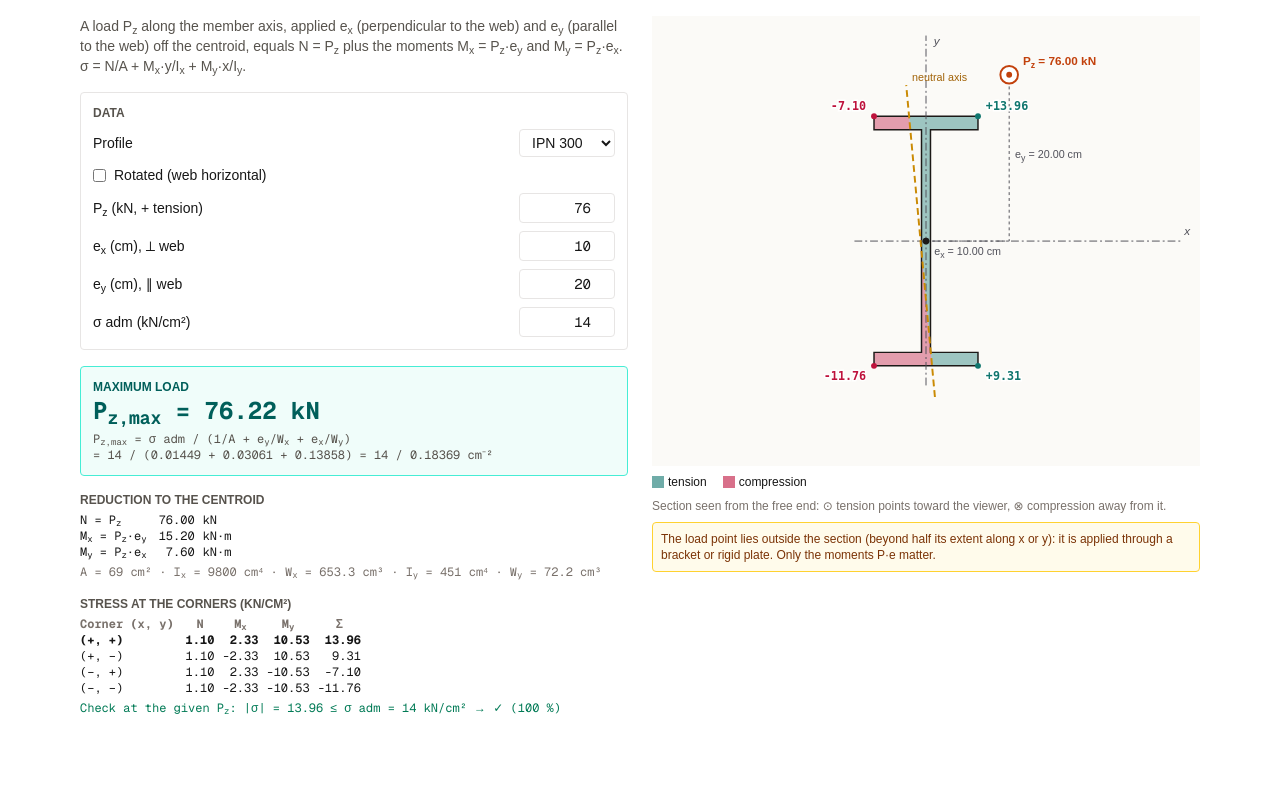
Test case: EccentricSection › concentric load has no neutral axis and P_z,max = σ adm·A
Replace the text in the number field named "e_x" with "0". click: (567,246)
box: [519, 231, 615, 261]
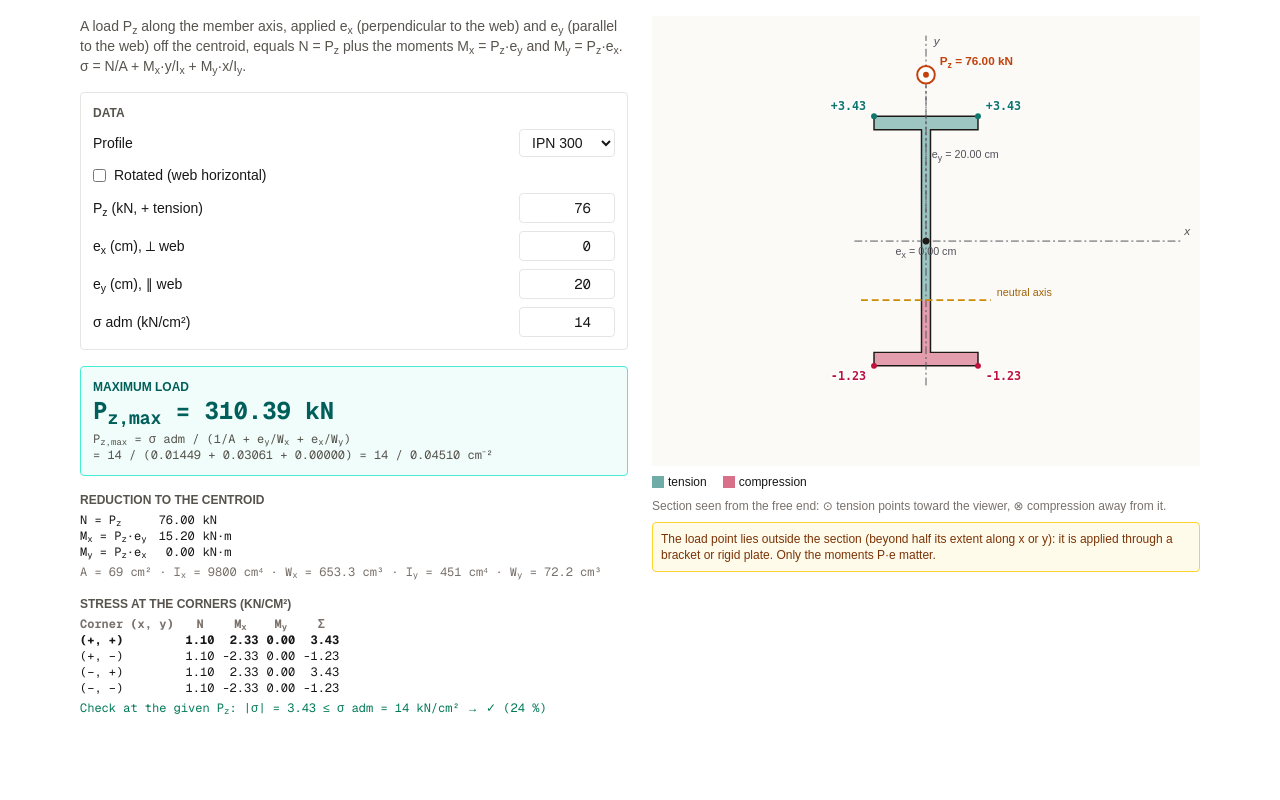
Replace the text in the number field named "e_y" with "0". click: (567,284)
box: [519, 269, 615, 299]
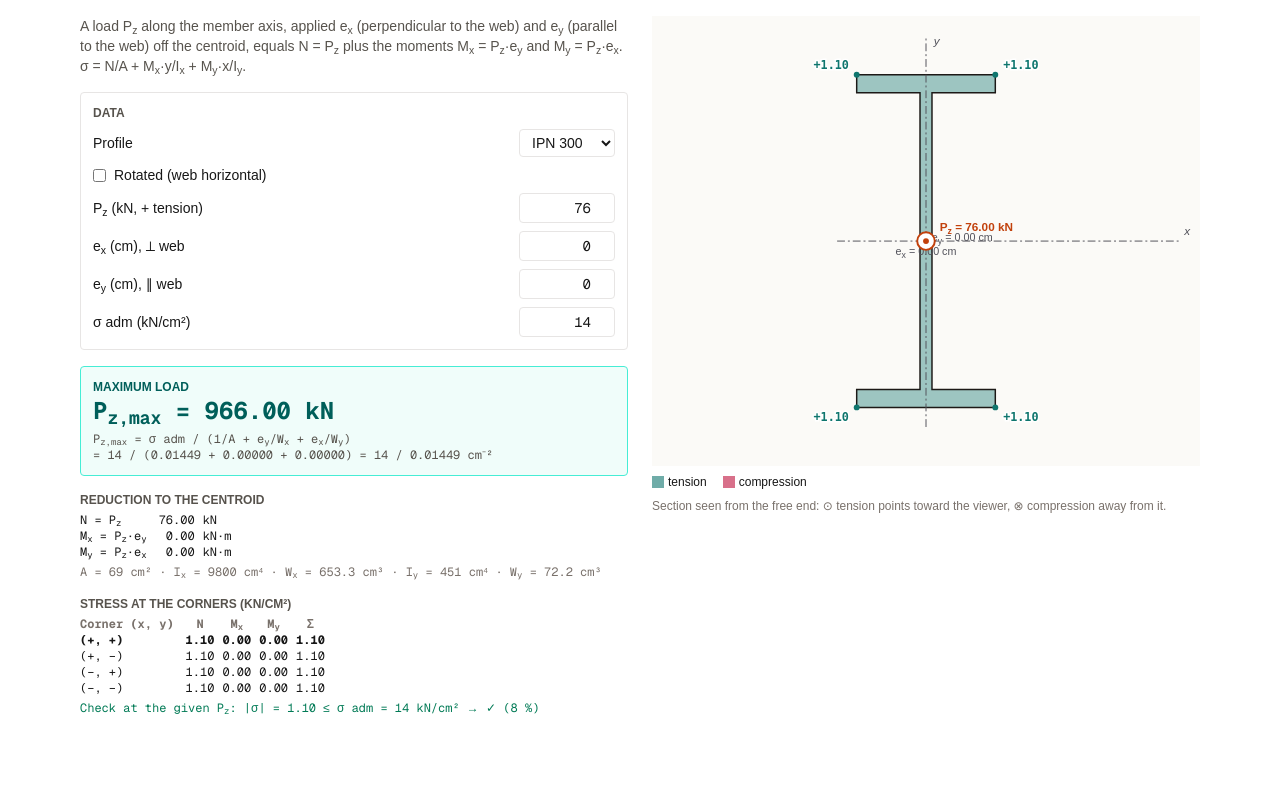
Check: the element with test id "ecc-pmax" shows "966.00 kN", box [93, 395, 334, 428]
